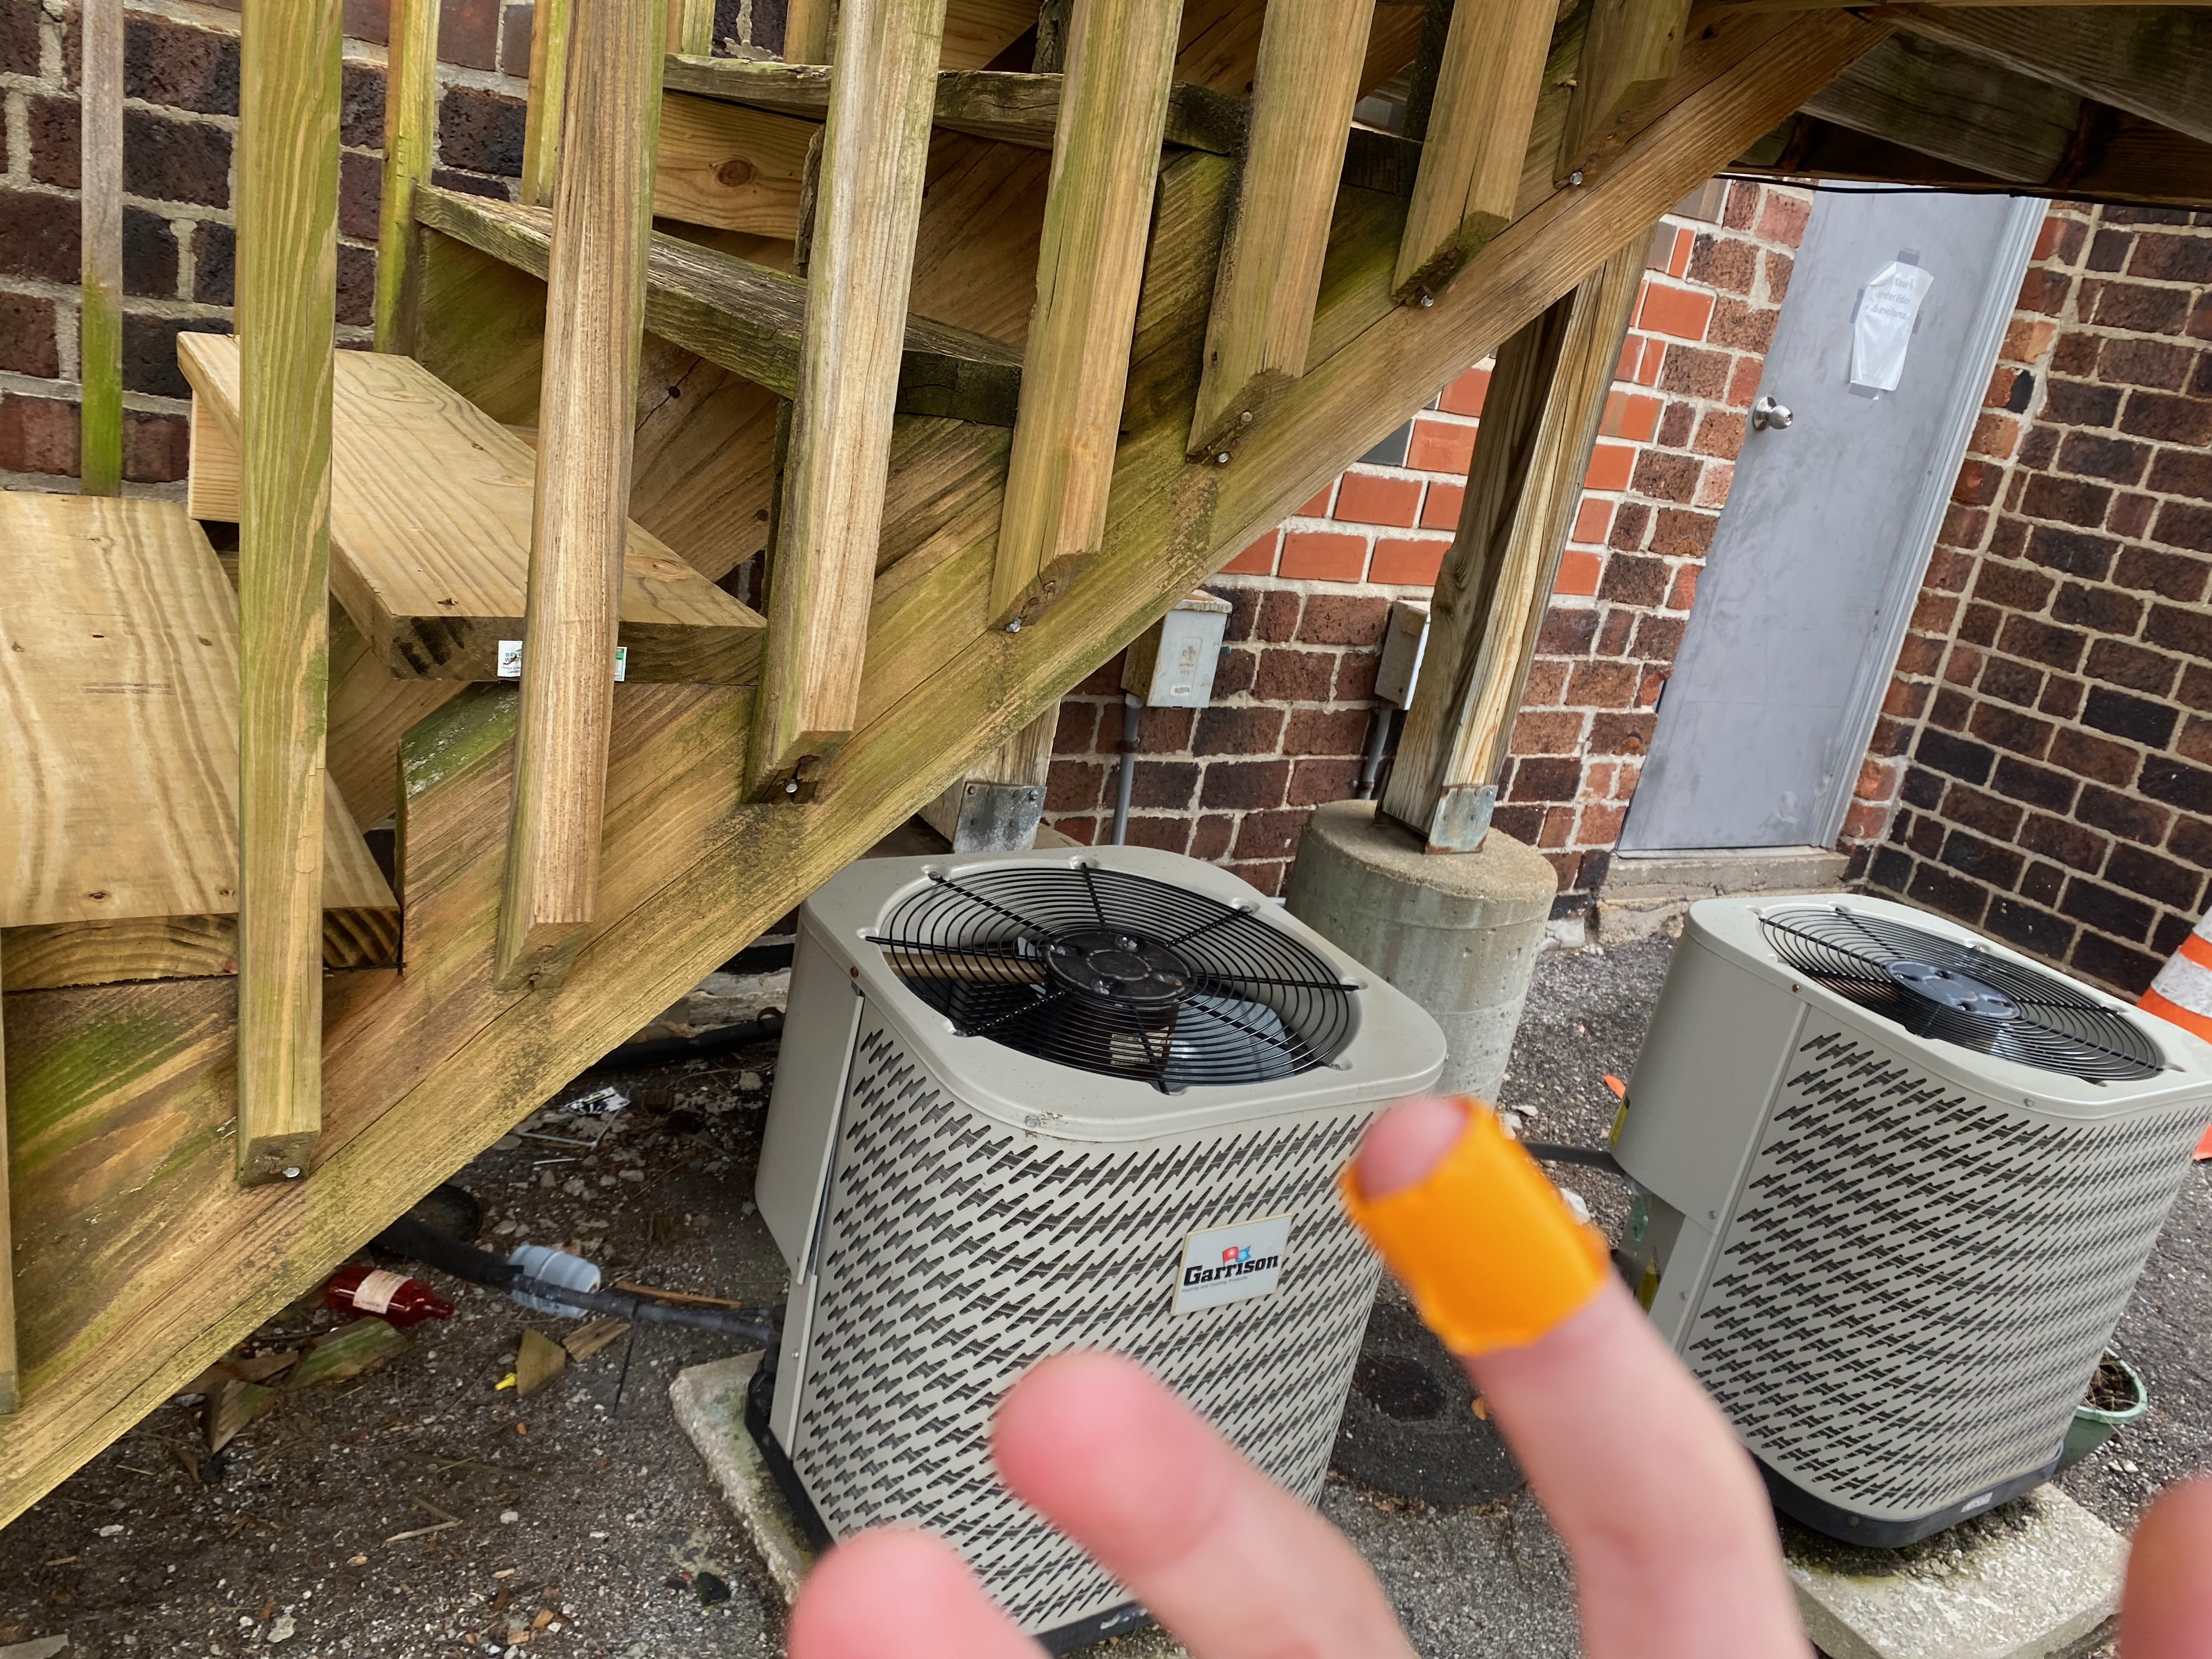fingertip: (1299, 1051, 1670, 1462)
